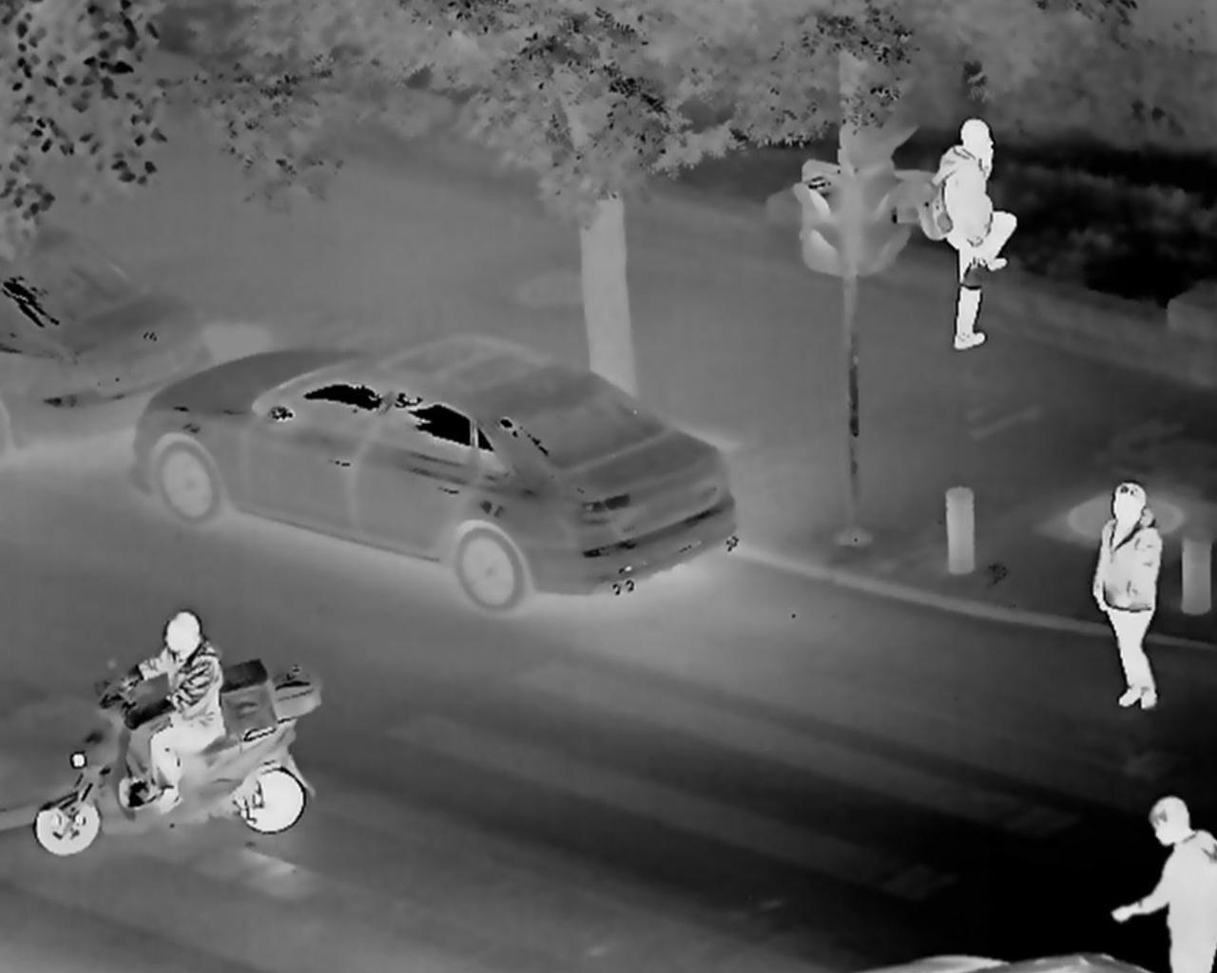person: (922, 113, 1021, 352), (125, 613, 236, 824), (1109, 792, 1217, 970), (1091, 480, 1169, 709)
